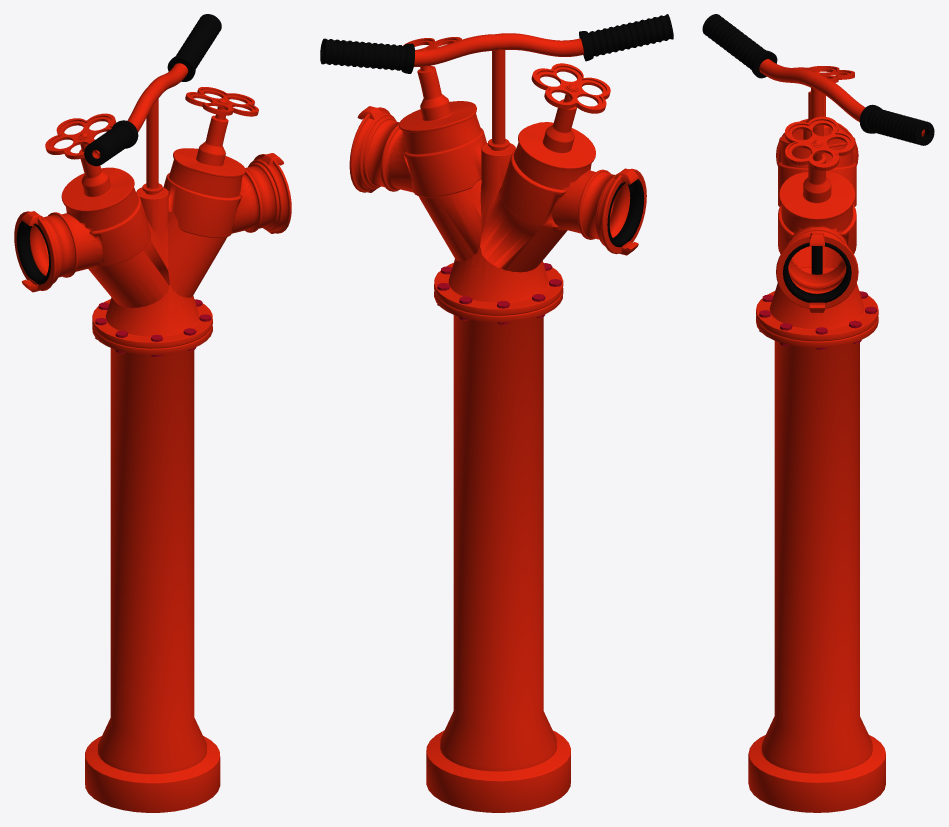
Rendered from scene_mobile.glb.
The picture shows the model from 3 angles, left to right: view 1: azimuth 30°, elevation 25°; view 2: azimuth 150°, elevation 25°; view 3: azimuth 270°, elevation 25°; orthographic projection. The views are drawn at different scales.
Parts seen in each view (by area): view 1: object 2, Cylinder.012, Cylinder.010, Cylinder.011, Cylinder.008, Cylinder.014, Cylinder.013; view 2: object 2, Cylinder.012, Cylinder.010, Cylinder.011, Cylinder.014; view 3: object 2, Cylinder.008, Cylinder.010, Cylinder.012, Cylinder.043, Cylinder.017, Cylinder.011.
Boxes of the visible parts, left/top/right/bottom form: object 2: left=14, top=63, right=291, bottom=812; Cylinder.012: left=167, top=14, right=221, bottom=81; Cylinder.010: left=84, top=120, right=138, bottom=166; Cylinder.011: left=45, top=113, right=116, bottom=159; Cylinder.008: left=185, top=87, right=258, bottom=116; Cylinder.014: left=16, top=221, right=50, bottom=284; Cylinder.013: left=14, top=213, right=53, bottom=290; object 2: left=349, top=33, right=646, bottom=812; Cylinder.012: left=320, top=38, right=414, bottom=73; Cylinder.010: left=579, top=14, right=673, bottom=61; Cylinder.011: left=531, top=63, right=610, bottom=113; Cylinder.014: left=607, top=179, right=644, bottom=247; object 2: left=748, top=59, right=924, bottom=812; Cylinder.008: left=785, top=116, right=854, bottom=170; Cylinder.010: left=702, top=14, right=777, bottom=78; Cylinder.012: left=859, top=104, right=934, bottom=145; Cylinder.043: left=783, top=242, right=851, bottom=302; Cylinder.017: left=777, top=237, right=857, bottom=308; Cylinder.011: left=793, top=66, right=854, bottom=82.
Bounding box in the file's own units: 2.5 × 6.61 × 1.94.
